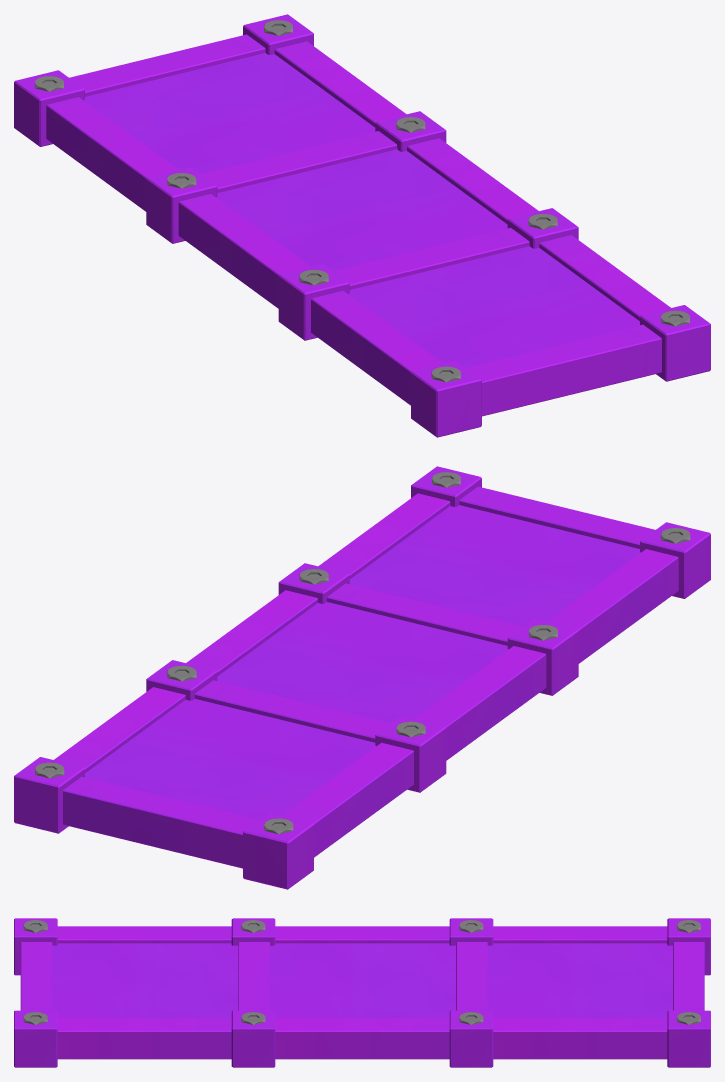
The model's file is FramedSquareTriplePink.fbx.
3 renders of one model, top to bottom at view 1: azimuth 30°, elevation 25°; view 2: azimuth 150°, elevation 25°; view 3: azimuth 270°, elevation 25°, orthographic. The views are drawn at different scales.
Parts seen in each view (by area): view 1: Cube, Cube.001; view 2: Cube, Cube.001; view 3: Cube, Cube.001.
Part boxes in pixels (box(x1,y1,x2,y2)): Cube: box(14, 14, 710, 437); Cube.001: box(35, 20, 689, 382); Cube: box(14, 466, 710, 889); Cube.001: box(35, 472, 690, 834); Cube: box(14, 918, 710, 1067); Cube.001: box(23, 920, 700, 1024).
Size of the model in its own units: 6 by 1.05 by 16.
